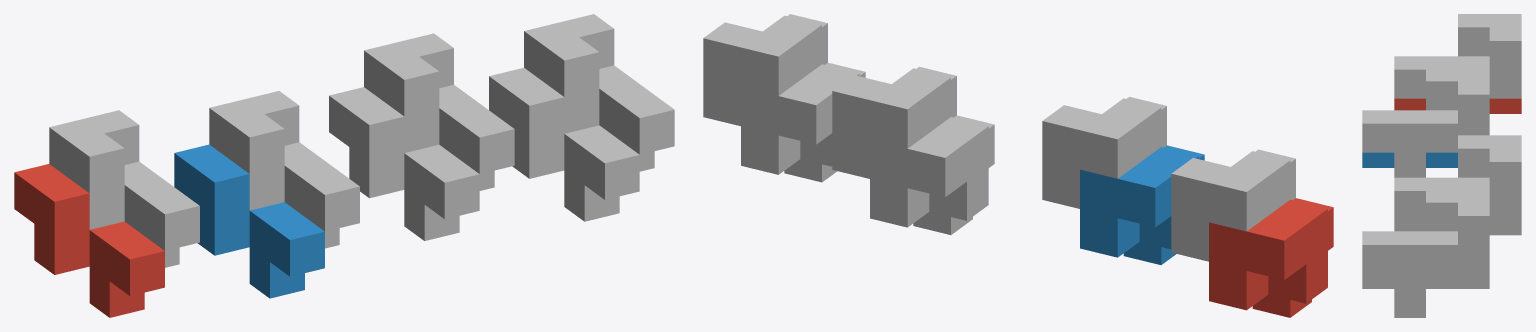
The model's file is tiling.obj.
3 renders of one model, left to right at view 1: azimuth 30°, elevation 25°; view 2: azimuth 150°, elevation 25°; view 3: azimuth 270°, elevation 25°, orthographic. The views are drawn at different scales.
Visible parts, largest first — view 1: copy_1_domain_1, copy_1_domain_5, copy_1_domain_8, copy_1_domain_4, copy_1_domain_3, copy_1_domain_7, copy_1_domain_6, copy_1_domain_2; view 2: copy_1_domain_5, copy_1_domain_1, copy_1_domain_4, copy_1_domain_3, copy_1_domain_8, copy_1_domain_7, copy_1_domain_6, copy_1_domain_2; view 3: copy_1_domain_8, copy_1_domain_4, copy_1_domain_3, copy_1_domain_7, copy_1_domain_6, copy_1_domain_2, copy_1_domain_1, copy_1_domain_5.
Boxes of the visible parts, left/top/right/bottom form: copy_1_domain_1: left=14, top=164, right=164, bottom=317; copy_1_domain_5: left=329, top=87, right=479, bottom=240; copy_1_domain_8: left=524, top=14, right=674, bottom=171; copy_1_domain_4: left=209, top=91, right=359, bottom=248; copy_1_domain_3: left=49, top=110, right=199, bottom=267; copy_1_domain_7: left=364, top=33, right=514, bottom=190; copy_1_domain_6: left=489, top=67, right=639, bottom=221; copy_1_domain_2: left=174, top=144, right=324, bottom=298; copy_1_domain_5: left=870, top=115, right=994, bottom=234; copy_1_domain_1: left=1209, top=198, right=1333, bottom=317; copy_1_domain_4: left=1042, top=97, right=1166, bottom=208; copy_1_domain_3: left=1171, top=149, right=1295, bottom=261; copy_1_domain_8: left=703, top=14, right=827, bottom=126; copy_1_domain_7: left=832, top=66, right=956, bottom=178; copy_1_domain_6: left=741, top=62, right=865, bottom=182; copy_1_domain_2: left=1080, top=145, right=1204, bottom=264; copy_1_domain_8: left=1362, top=189, right=1489, bottom=302; copy_1_domain_4: left=1362, top=68, right=1489, bottom=177; copy_1_domain_3: left=1394, top=14, right=1521, bottom=98; copy_1_domain_7: left=1394, top=135, right=1521, bottom=219; copy_1_domain_6: left=1362, top=273, right=1489, bottom=317; copy_1_domain_2: left=1362, top=152, right=1457, bottom=167; copy_1_domain_1: left=1394, top=98, right=1521, bottom=113; copy_1_domain_5: left=1394, top=220, right=1521, bottom=235.
Size of the model in its own units: 16 by 4 by 5.
